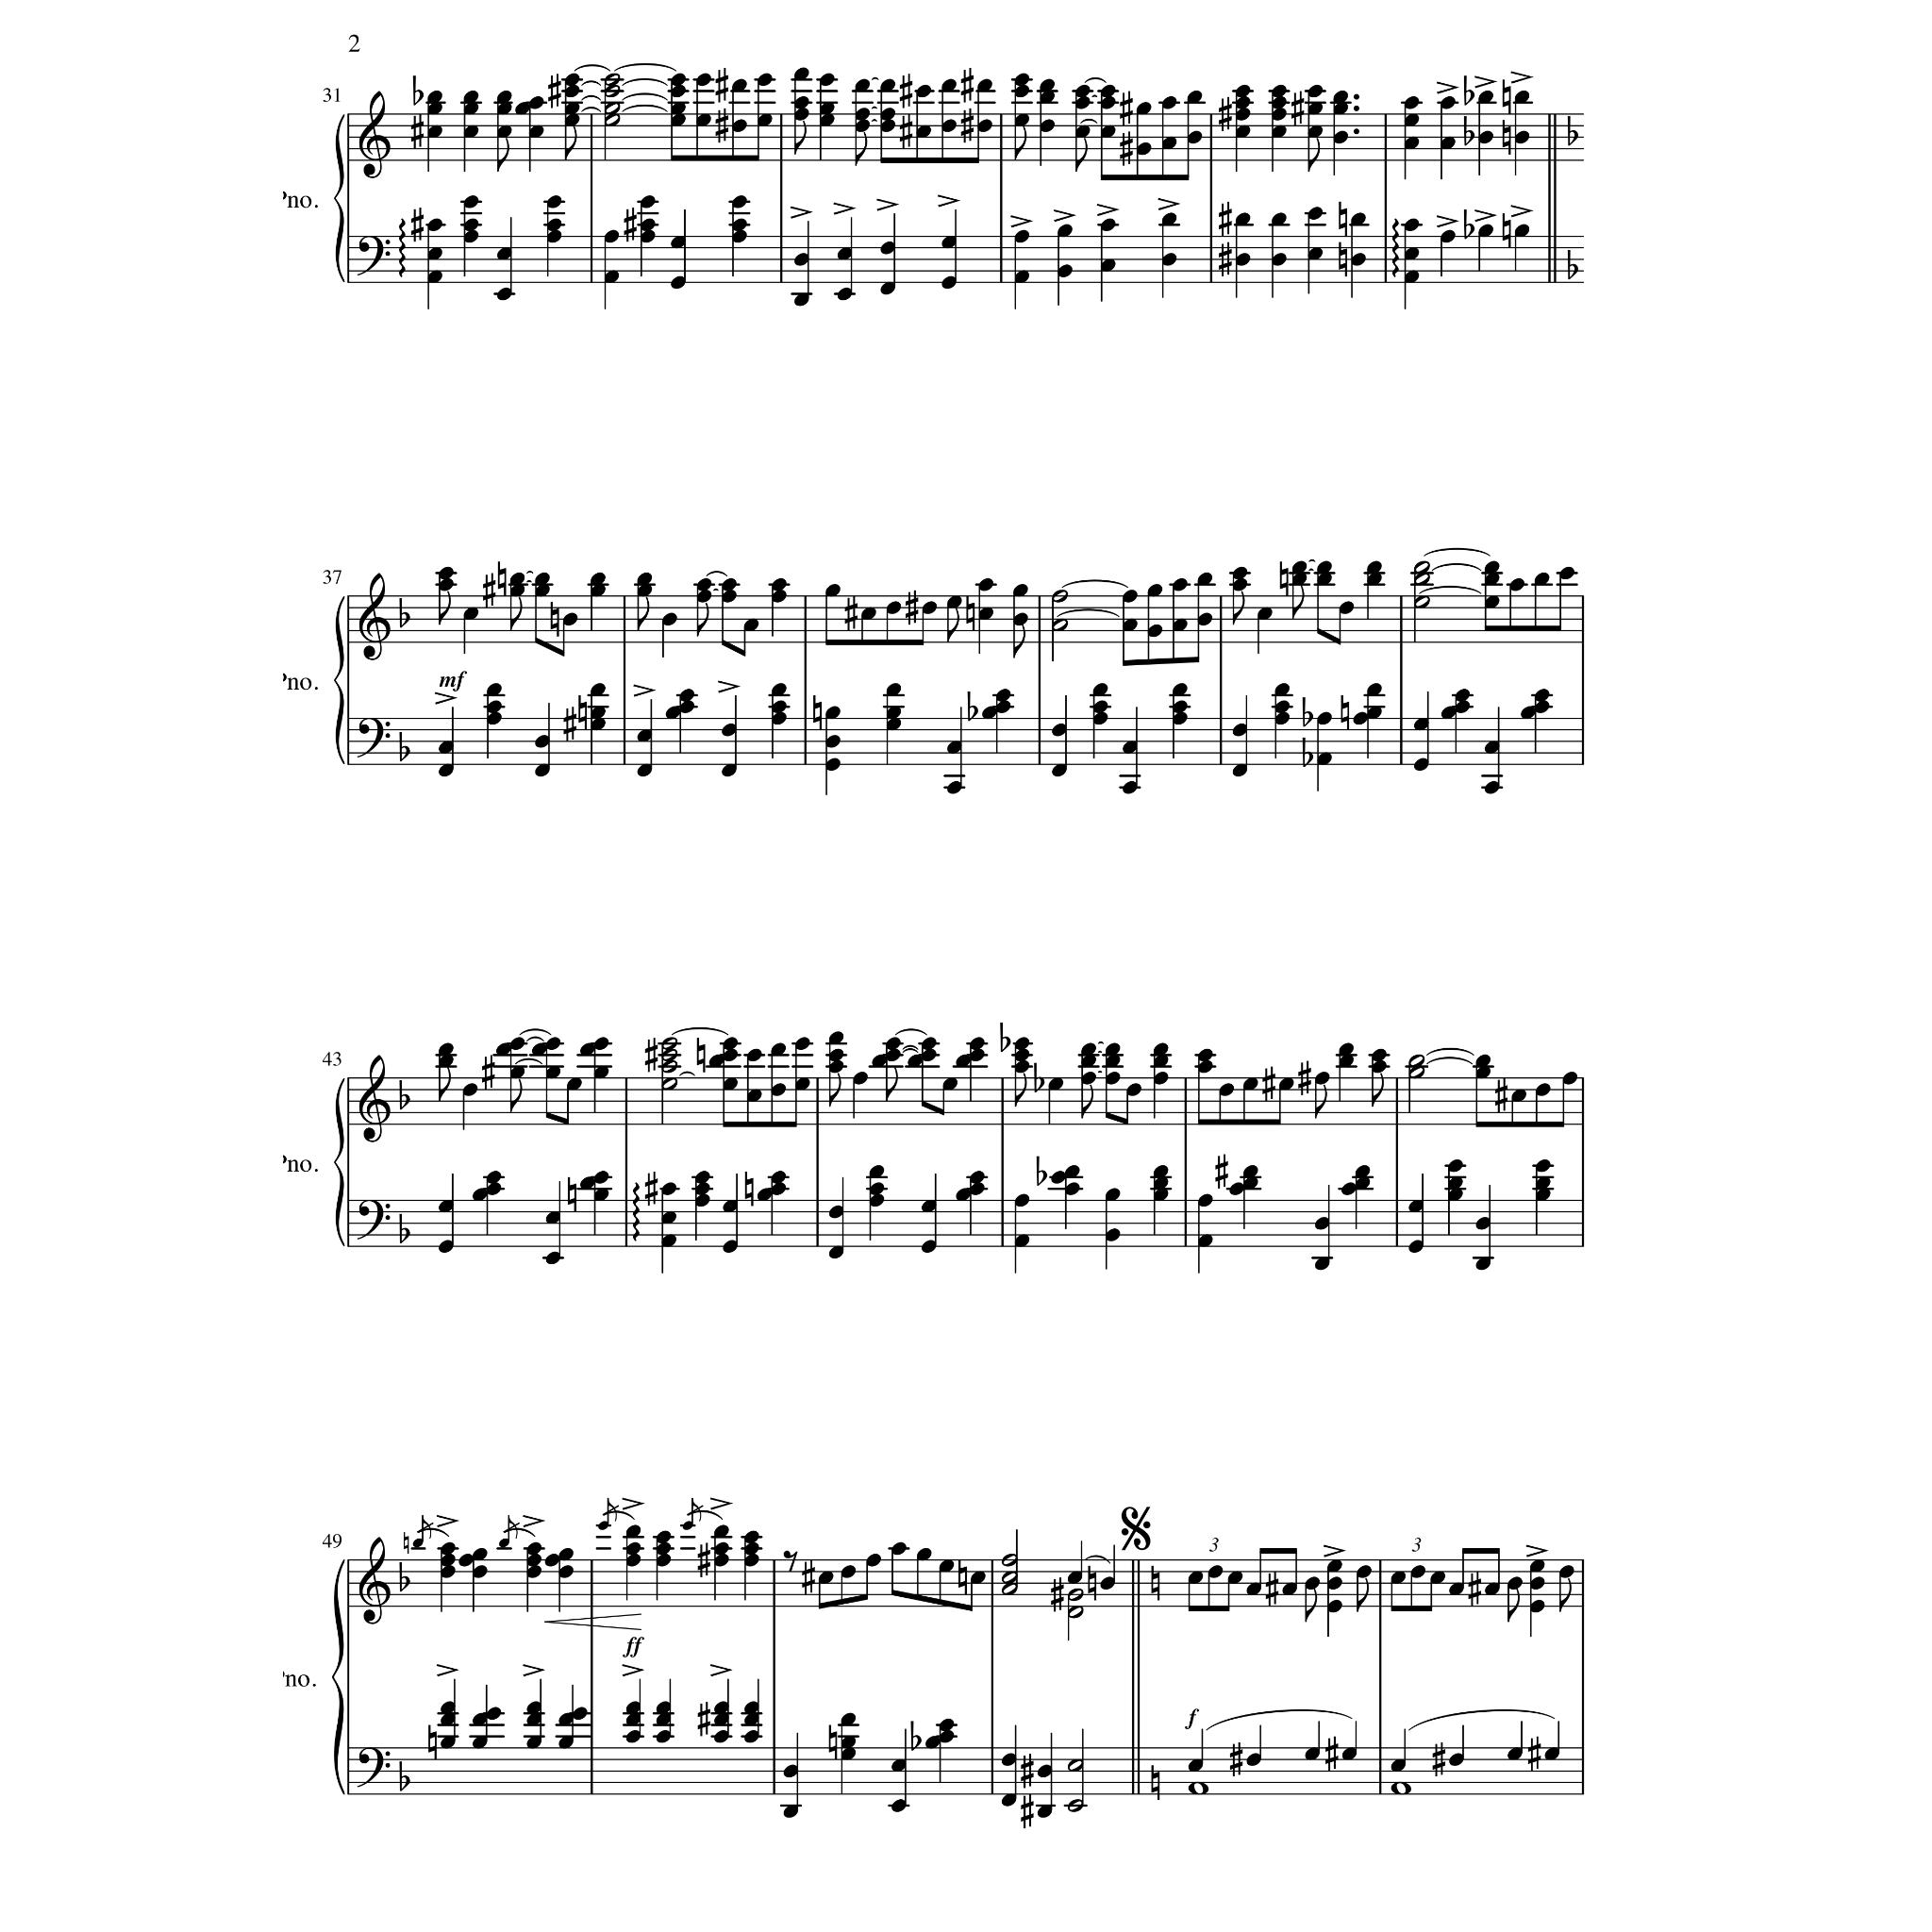brace: (331, 1559, 344, 1795), (333, 1077, 344, 1247), (333, 115, 344, 283), (333, 596, 344, 764)
fClef: (357, 236, 391, 277), (357, 717, 391, 758), (357, 1747, 391, 1789), (357, 1200, 391, 1240)
flag8thDown: (1232, 591, 1245, 626), (947, 608, 960, 643), (1507, 1587, 1521, 1623), (1357, 1577, 1370, 1613), (1307, 138, 1321, 172), (564, 126, 577, 160), (496, 138, 509, 172), (855, 132, 868, 166), (1013, 625, 1026, 658), (509, 597, 523, 631), (696, 603, 709, 637), (1081, 1085, 1094, 1119), (1372, 1073, 1385, 1107), (509, 1079, 523, 1113), (828, 1073, 841, 1107), (440, 591, 451, 626), (1306, 1587, 1317, 1623), (1560, 1577, 1572, 1613), (1015, 126, 1026, 160), (1075, 138, 1087, 172), (794, 121, 806, 155), (1292, 586, 1304, 620), (638, 597, 649, 631), (1015, 1073, 1026, 1107), (1315, 1085, 1326, 1119), (440, 1067, 451, 1101), (887, 1067, 898, 1101)
flag8thUp: (685, 1491, 704, 1523), (415, 1509, 434, 1540), (502, 1509, 521, 1540), (602, 1491, 619, 1523)
gClef: (358, 91, 391, 179), (358, 573, 391, 661), (358, 1055, 391, 1143), (358, 1537, 391, 1625)
noteheadBlack: (1013, 113, 1030, 128), (757, 113, 774, 128), (1366, 706, 1383, 721), (1440, 706, 1457, 721), (636, 583, 653, 598), (534, 583, 551, 598), (534, 734, 551, 749), (664, 706, 681, 721), (885, 706, 902, 721), (981, 706, 998, 721), (824, 734, 841, 749), (824, 706, 841, 721), (824, 583, 841, 598), (1534, 1175, 1551, 1191), (1036, 1764, 1053, 1779), (1000, 1792, 1017, 1807), (543, 1553, 560, 1568), (655, 1553, 672, 1568), (625, 1553, 641, 1568), (625, 1524, 641, 1540), (440, 1553, 457, 1568), (743, 1553, 760, 1568), (1136, 142, 1151, 157), (1404, 113, 1419, 128), (564, 113, 579, 128), (670, 113, 685, 128), (670, 275, 685, 291), (941, 275, 957, 291), (819, 113, 834, 128), (696, 113, 711, 128), (1013, 583, 1028, 598), (1147, 583, 1162, 598), (1521, 706, 1536, 721), (591, 583, 606, 598), (591, 706, 606, 721), (509, 583, 525, 598), (1243, 1175, 1258, 1191), (1153, 1175, 1168, 1191), (1355, 1175, 1370, 1191), (1447, 1175, 1462, 1191), (579, 1175, 594, 1191), (828, 1245, 843, 1260), (526, 1553, 541, 1568), (458, 1553, 474, 1568), (866, 1553, 881, 1568), (713, 1524, 728, 1540), (783, 1764, 798, 1779), (713, 1553, 728, 1568), (1234, 213, 1251, 226), (1234, 254, 1251, 267), (1234, 85, 1251, 98), (1234, 96, 1251, 109), (1234, 108, 1251, 121), (1234, 125, 1251, 139), (1160, 254, 1177, 267), (1160, 213, 1177, 226), (1160, 96, 1177, 109), (1057, 265, 1074, 278), (1057, 225, 1074, 238), (1013, 85, 1030, 98), (1013, 74, 1030, 87), (1013, 271, 1030, 284), (1013, 230, 1030, 243), (1160, 137, 1177, 150), (1513, 131, 1530, 144), (1513, 91, 1530, 104), (1513, 225, 1530, 238), (1477, 131, 1494, 144), (1477, 91, 1494, 104), (1477, 225, 1494, 238), (1332, 91, 1349, 104), (1332, 131, 1349, 144), (1332, 103, 1349, 116), (1440, 96, 1457, 109), (1440, 137, 1457, 150), (1440, 230, 1457, 243), (545, 230, 562, 243), (545, 219, 562, 232), (545, 196, 562, 209), (426, 125, 443, 139), (426, 103, 443, 116), (426, 91, 443, 104), (426, 271, 443, 284), (426, 247, 443, 260), (426, 219, 443, 232), (462, 91, 479, 104), (462, 125, 479, 139), (462, 103, 479, 116), (462, 230, 479, 243), (462, 219, 479, 232), (462, 196, 479, 209), (836, 288, 853, 301), (836, 247, 853, 260), (879, 241, 896, 255), (915, 125, 932, 139), (915, 85, 932, 98), (879, 282, 896, 295), (879, 79, 896, 92), (879, 108, 896, 121), (879, 120, 896, 133), (757, 74, 774, 87), (1196, 613, 1213, 626), (1196, 573, 1213, 586), (1274, 683, 1291, 696), (1291, 573, 1307, 586), (1291, 561, 1307, 575), (1274, 701, 1291, 714), (1257, 608, 1274, 621), (1274, 712, 1291, 725), (1051, 764, 1068, 777), (1051, 724, 1068, 737), (1172, 619, 1189, 632), (1172, 578, 1189, 591), (1172, 712, 1189, 725), (1172, 701, 1189, 714), (1172, 683, 1189, 696), (1558, 567, 1575, 580), (1483, 781, 1500, 794), (1483, 741, 1500, 754), (1483, 561, 1500, 575), (1366, 573, 1383, 586), (1366, 561, 1383, 575), (1366, 683, 1383, 696), (1338, 602, 1355, 615), (1483, 595, 1500, 608), (1483, 573, 1500, 586), (1413, 758, 1430, 772), (1413, 718, 1430, 731), (636, 573, 653, 586), (636, 764, 653, 777), (636, 729, 653, 742), (660, 613, 677, 626), (534, 573, 551, 586), (534, 764, 551, 777), (462, 608, 479, 621), (885, 602, 902, 615), (885, 718, 902, 731), (885, 683, 902, 696), (860, 608, 877, 621), (977, 608, 994, 621), (977, 578, 994, 591), (921, 602, 938, 615), (770, 712, 787, 725), (770, 590, 787, 603), (770, 578, 787, 591), (770, 701, 787, 714), (770, 683, 787, 696), (721, 590, 738, 603), (721, 578, 738, 591), (721, 764, 738, 777), (721, 724, 738, 737), (824, 758, 841, 772), (1228, 1183, 1245, 1196), (1013, 1194, 1030, 1207), (1047, 1077, 1064, 1091), (1104, 1043, 1121, 1057), (1104, 1072, 1121, 1085), (1104, 1055, 1121, 1068), (1104, 1228, 1121, 1241), (1104, 1188, 1121, 1201), (1534, 1188, 1551, 1201), (1534, 1159, 1551, 1173), (1534, 1083, 1551, 1096), (1338, 1043, 1355, 1057), (1338, 1055, 1355, 1068), (1407, 1240, 1424, 1253), (1407, 1200, 1424, 1213), (660, 1235, 677, 1248), (660, 1211, 677, 1224), (660, 1183, 677, 1196), (592, 1066, 609, 1079), (592, 1037, 609, 1050), (592, 1188, 609, 1201), (592, 1171, 609, 1184), (1013, 1235, 1030, 1248), (708, 1055, 724, 1068), (530, 1043, 547, 1057), (485, 1171, 502, 1184), (485, 1183, 502, 1196), (494, 1043, 511, 1057), (955, 1055, 972, 1068), (868, 1165, 885, 1178), (868, 1183, 885, 1196), (941, 1077, 958, 1091), (868, 1194, 885, 1207), (770, 1171, 787, 1184), (770, 1183, 787, 1196), (770, 1043, 787, 1057), (770, 1083, 787, 1096), (745, 1049, 762, 1062), (745, 1090, 762, 1103), (1013, 1060, 1030, 1074), (1013, 1049, 1030, 1062), (1013, 1037, 1030, 1050), (955, 1188, 972, 1201), (794, 1077, 811, 1091), (794, 1037, 811, 1050), (1326, 1600, 1343, 1613), (1304, 1747, 1321, 1760), (1304, 1576, 1321, 1590), (1281, 1583, 1298, 1596), (1226, 1571, 1243, 1584), (1245, 1583, 1262, 1596), (1245, 1754, 1262, 1767), (1036, 1805, 1053, 1818), (1066, 1571, 1083, 1584), (1000, 1754, 1017, 1767), (1187, 1758, 1204, 1772), (1187, 1571, 1204, 1584), (1543, 1747, 1560, 1760), (1558, 1565, 1575, 1578), (1326, 1559, 1343, 1573), (1483, 1583, 1500, 1596), (1326, 1576, 1343, 1590), (1409, 1565, 1426, 1578), (655, 1701, 672, 1714), (655, 1542, 672, 1556), (655, 1531, 672, 1544), (655, 1730, 672, 1743), (625, 1730, 641, 1743), (625, 1542, 641, 1556), (625, 1713, 641, 1726), (625, 1701, 641, 1714), (440, 1565, 457, 1578), (440, 1542, 457, 1556), (440, 1736, 457, 1749), (440, 1713, 457, 1726), (485, 1707, 502, 1720), (440, 1701, 457, 1714), (655, 1713, 672, 1726), (817, 1571, 834, 1584), (891, 1542, 908, 1556), (938, 1730, 955, 1743), (938, 1719, 955, 1732), (924, 1736, 941, 1749), (970, 1571, 987, 1584), (891, 1799, 908, 1812), (891, 1758, 908, 1772), (938, 1559, 955, 1573), (743, 1542, 760, 1556), (743, 1701, 760, 1714), (743, 1713, 760, 1726), (743, 1730, 760, 1743), (743, 1531, 760, 1544), (1187, 91, 1202, 104), (1187, 131, 1202, 144), (1272, 254, 1287, 267), (1272, 125, 1287, 139), (1272, 108, 1287, 121), (1272, 96, 1287, 109), (1272, 85, 1287, 98), (1272, 213, 1287, 226), (1040, 120, 1055, 133), (1040, 91, 1055, 104), (1040, 79, 1055, 92), (1136, 103, 1151, 116), (1075, 125, 1091, 139), (1075, 96, 1091, 109), (1075, 85, 1091, 98), (1100, 125, 1115, 139), (1100, 96, 1115, 109), (1100, 85, 1115, 98), (1100, 258, 1115, 272), (1100, 219, 1115, 232), (1351, 213, 1366, 226), (1351, 254, 1366, 267), (1404, 137, 1419, 150), (1307, 125, 1323, 139), (1307, 103, 1323, 116), (1307, 85, 1323, 98), (1307, 247, 1323, 260), (1307, 208, 1323, 221), (1404, 96, 1419, 109), (1404, 271, 1419, 284), (1404, 247, 1419, 260), (1404, 219, 1419, 232), (604, 271, 619, 284), (604, 230, 619, 243), (564, 103, 579, 116), (564, 85, 579, 98), (564, 74, 579, 87), (670, 103, 685, 116), (670, 85, 685, 98), (670, 74, 685, 87), (670, 236, 685, 249), (528, 96, 543, 109), (640, 230, 655, 243), (640, 219, 655, 232), (640, 196, 655, 209), (496, 125, 511, 139), (496, 103, 511, 116), (496, 91, 511, 104), (496, 288, 511, 301), (496, 247, 511, 260), (528, 125, 543, 139), (515, 103, 530, 116), (941, 120, 957, 133), (819, 103, 834, 116), (819, 74, 834, 87), (941, 79, 957, 92), (941, 236, 957, 249), (855, 120, 870, 133), (855, 79, 870, 92), (855, 108, 870, 121), (696, 74, 711, 87), (732, 120, 747, 133), (732, 79, 747, 92), (732, 230, 747, 243), (732, 219, 747, 232), (732, 196, 747, 209), (794, 293, 809, 307), (794, 254, 809, 267), (794, 68, 809, 81), (794, 96, 809, 109), (794, 108, 809, 121), (977, 120, 992, 133), (977, 79, 992, 92), (1317, 561, 1332, 575), (1232, 578, 1247, 591), (1232, 567, 1247, 580), (1232, 764, 1247, 777), (1232, 724, 1247, 737), (1317, 573, 1332, 586), (1013, 613, 1028, 626), (1092, 712, 1108, 725), (1147, 625, 1162, 638), (1123, 781, 1138, 794), (1092, 701, 1108, 714), (1092, 683, 1108, 696), (1123, 619, 1138, 632), (1123, 590, 1138, 603), (1123, 741, 1138, 754), (1534, 701, 1549, 714), (1534, 689, 1549, 702), (1534, 573, 1549, 586), (1509, 578, 1524, 591), (1353, 712, 1368, 725), (1317, 712, 1332, 725), (1455, 701, 1470, 714), (1455, 689, 1470, 702), (1317, 753, 1332, 766), (591, 683, 606, 696), (562, 613, 577, 626), (591, 573, 606, 586), (591, 718, 606, 731), (679, 701, 694, 714), (679, 689, 694, 702), (696, 590, 711, 603), (696, 578, 711, 591), (438, 567, 453, 580), (438, 578, 453, 591), (438, 764, 453, 777), (438, 741, 453, 754), (509, 573, 525, 586), (487, 712, 502, 725), (487, 701, 502, 714), (487, 683, 502, 696), (995, 701, 1010, 714), (995, 689, 1010, 702), (947, 595, 962, 608), (947, 781, 962, 794), (947, 741, 962, 754), (743, 619, 758, 632), (1198, 1060, 1213, 1074), (1198, 1049, 1213, 1062), (1198, 1235, 1213, 1248), (1198, 1194, 1213, 1207), (1243, 1165, 1258, 1178), (1279, 1077, 1294, 1091), (1219, 1083, 1234, 1096), (1243, 1077, 1258, 1091), (1051, 1171, 1066, 1184), (1064, 1183, 1079, 1196), (1064, 1165, 1079, 1178), (1081, 1072, 1096, 1085), (1081, 1055, 1096, 1068), (1126, 1083, 1141, 1096), (1153, 1072, 1168, 1085), (1153, 1055, 1168, 1068), (1153, 1043, 1168, 1057), (1153, 1188, 1168, 1201), (1153, 1165, 1168, 1178), (1081, 1043, 1096, 1057), (1562, 1072, 1577, 1085), (1511, 1090, 1526, 1103), (1475, 1217, 1491, 1230), (1341, 1183, 1357, 1196), (1355, 1165, 1370, 1178), (1372, 1060, 1387, 1074), (1372, 1049, 1387, 1062), (1314, 1072, 1329, 1085), (1314, 1257, 1329, 1271), (1314, 1217, 1329, 1230), (1447, 1188, 1462, 1201), (1447, 1159, 1462, 1173), (1475, 1066, 1491, 1079), (1475, 1055, 1491, 1068), (1475, 1257, 1491, 1271), (579, 1043, 594, 1057), (567, 1077, 582, 1091), (694, 1194, 709, 1207), (694, 1183, 709, 1196), (694, 1171, 709, 1184), (723, 1077, 738, 1091), (723, 1049, 738, 1062), (723, 1037, 738, 1050), (723, 1240, 738, 1253), (723, 1200, 738, 1213), (438, 1240, 453, 1253), (438, 1055, 453, 1068), (438, 1043, 453, 1057), (438, 1200, 453, 1213), (545, 1252, 560, 1265), (545, 1066, 560, 1079), (545, 1037, 560, 1050), (545, 1211, 560, 1224), (462, 1083, 477, 1096), (472, 1188, 487, 1201), (509, 1066, 525, 1079), (509, 1037, 525, 1050), (853, 1072, 868, 1085), (921, 1200, 936, 1213), (921, 1240, 936, 1253), (921, 1037, 936, 1050), (921, 1049, 936, 1062), (908, 1055, 923, 1068), (885, 1037, 900, 1050), (885, 1049, 900, 1062), (872, 1055, 887, 1068), (970, 1049, 985, 1062), (757, 1188, 772, 1201), (828, 1060, 843, 1074), (970, 1171, 985, 1184), (970, 1183, 985, 1196), (828, 1049, 843, 1062), (828, 1032, 843, 1045), (970, 1037, 985, 1050), (828, 1206, 843, 1219), (1207, 1565, 1223, 1578), (1100, 1576, 1115, 1590), (1530, 1559, 1545, 1573), (1507, 1576, 1523, 1590), (1507, 1747, 1523, 1760), (1530, 1600, 1545, 1613), (1530, 1576, 1545, 1590), (1391, 1571, 1406, 1584), (1391, 1758, 1406, 1772), (1341, 1747, 1357, 1760), (1357, 1565, 1372, 1578), (1449, 1583, 1464, 1596), (1449, 1754, 1464, 1767), (1430, 1571, 1445, 1584), (526, 1701, 541, 1714), (558, 1565, 574, 1578), (558, 1548, 574, 1561), (558, 1736, 574, 1749), (558, 1713, 574, 1726), (572, 1707, 587, 1720), (526, 1713, 541, 1726), (526, 1565, 541, 1578), (526, 1542, 541, 1556), (526, 1736, 541, 1749), (472, 1565, 487, 1578), (472, 1548, 487, 1561), (472, 1736, 487, 1749), (472, 1713, 487, 1726), (841, 1736, 856, 1749), (841, 1713, 856, 1726), (841, 1747, 856, 1760), (841, 1565, 856, 1578), (917, 1548, 932, 1561), (713, 1730, 728, 1743), (713, 1713, 728, 1726), (713, 1701, 728, 1714), (713, 1542, 728, 1556), (783, 1805, 798, 1818), (412, 1538, 424, 1549), (498, 1538, 509, 1549), (597, 1521, 608, 1530), (682, 1521, 693, 1530)
noteheadHalf: (604, 113, 621, 128), (604, 103, 621, 116), (604, 85, 621, 98), (604, 74, 621, 87), (1051, 619, 1068, 632), (1051, 590, 1068, 603), (1413, 595, 1430, 608), (1413, 573, 1430, 586), (1413, 561, 1430, 575), (1407, 1066, 1424, 1079), (1407, 1055, 1424, 1068), (660, 1077, 677, 1091), (660, 1060, 677, 1074), (660, 1049, 677, 1062), (660, 1037, 677, 1050), (1001, 1583, 1018, 1596), (1001, 1571, 1018, 1584), (1001, 1554, 1018, 1567), (1067, 1606, 1084, 1619), (1067, 1589, 1084, 1602), (1067, 1799, 1084, 1812), (1067, 1758, 1084, 1772)
noteheadWhole: (1187, 1781, 1209, 1796), (1391, 1781, 1411, 1796)
rest8th: (783, 1550, 798, 1573)
